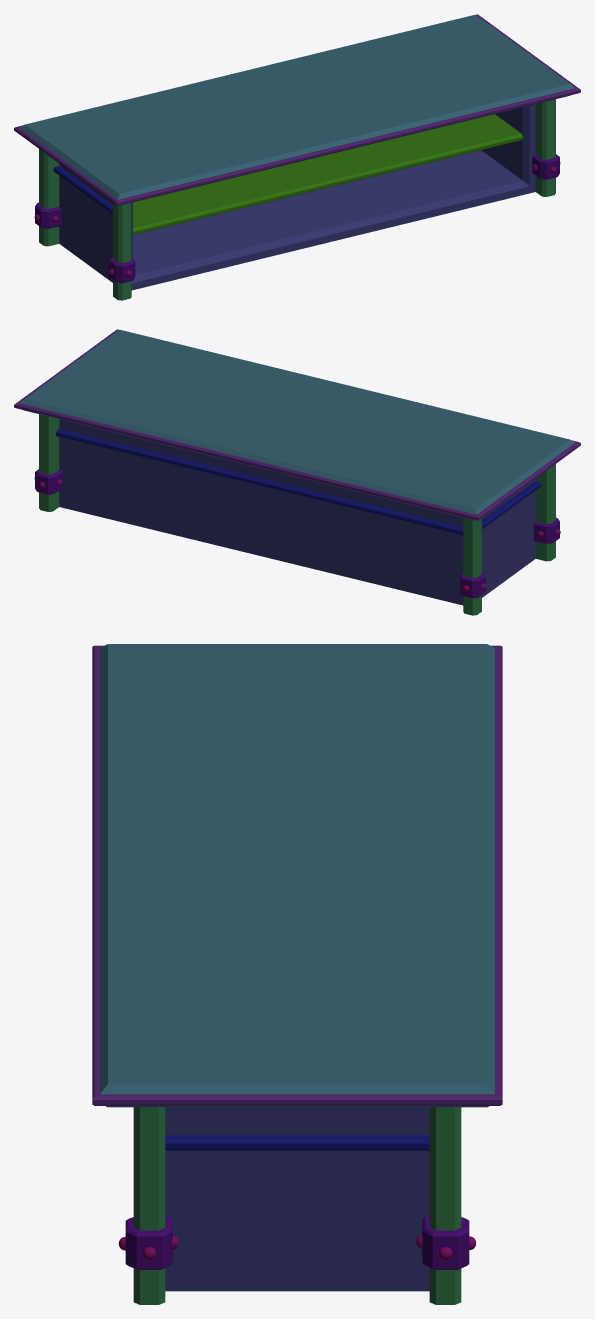
File: MESH_Counter.fbx
3 views of the same model, one above another, from view 1: azimuth 30°, elevation 25°; view 2: azimuth 150°, elevation 25°; view 3: azimuth 270°, elevation 25° (orthographic). The views are drawn at different scales.
Parts seen in each view (by area): view 1: MESH_Counter; view 2: MESH_Counter; view 3: MESH_Counter.
Part boxes in pixels (x1,y1,x2,y2): MESH_Counter: [14, 14, 580, 300]; MESH_Counter: [14, 329, 580, 615]; MESH_Counter: [92, 644, 502, 1304].
Bounding box in the file's own units: 4.06 × 0.9489 × 1.55.
